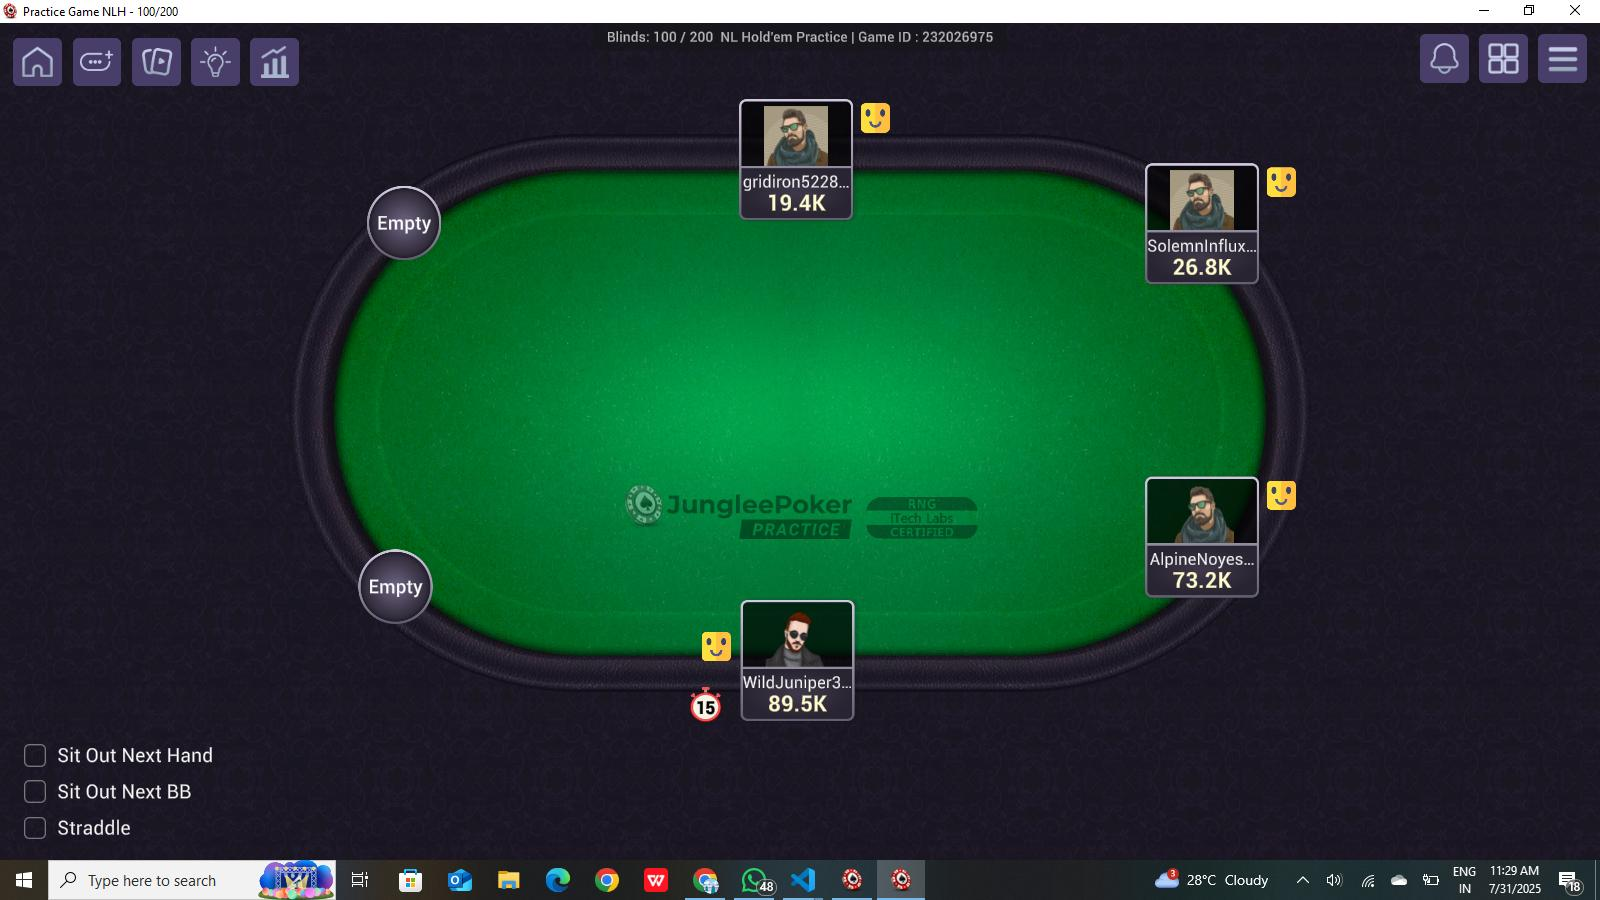game_id: (852, 24, 1008, 53)
my_stack: (748, 689, 846, 724)
villian3_name: (738, 165, 851, 195)
villian3_stack: (740, 187, 846, 223)
villian4_name: (1144, 233, 1254, 259)
villian4_stack: (1151, 251, 1254, 288)
villian5_name: (1148, 541, 1256, 571)
villian5_stack: (1152, 568, 1256, 595)
